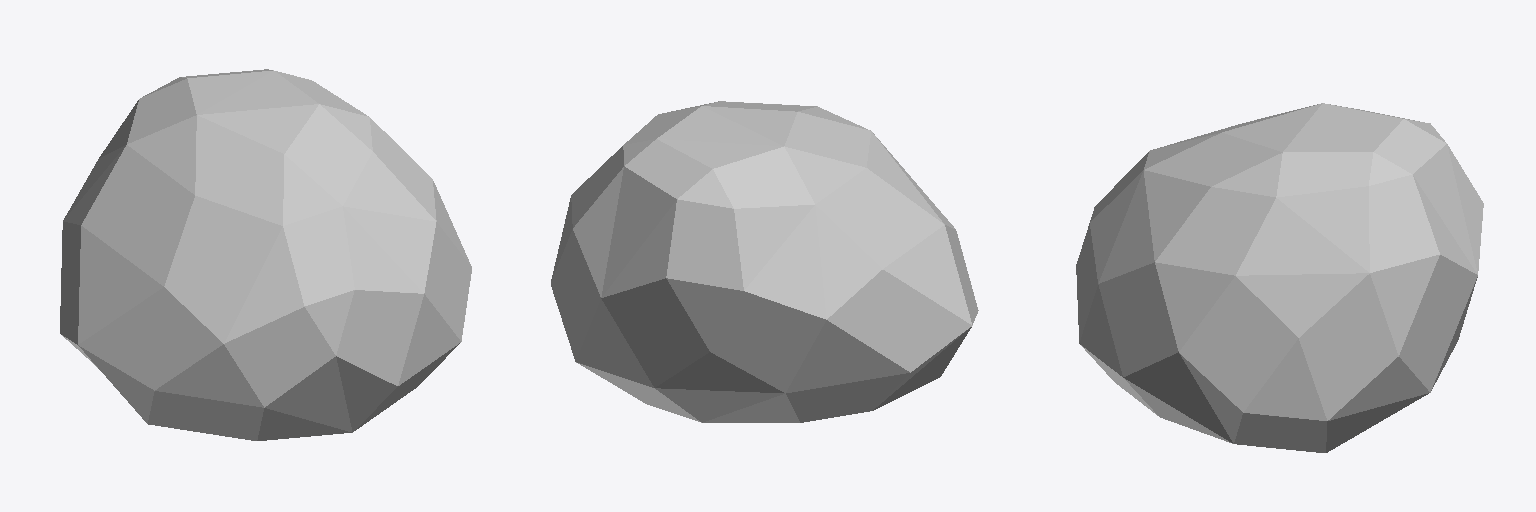
File: Rock2.obj
The picture shows the model from 3 angles: view 1: azimuth 30°, elevation 25°; view 2: azimuth 150°, elevation 25°; view 3: azimuth 270°, elevation 25°; orthographic projection.
Visible parts, largest first — view 1: Cube; view 2: Cube; view 3: Cube.
Part boxes in pixels (left/top/right/bottom): Cube: left=60, top=69, right=471, bottom=440; Cube: left=551, top=101, right=978, bottom=422; Cube: left=1076, top=103, right=1483, bottom=452.
Bounding box in the file's own units: 1.75 × 1.18 × 1.61.